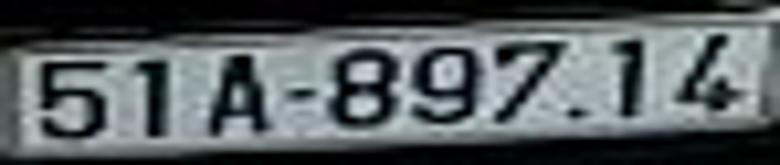-: (287, 85, 313, 98)
.: (568, 104, 584, 119)
1: (132, 58, 171, 139), (614, 39, 643, 113)
4: (673, 33, 741, 118)
5: (39, 55, 111, 138)
7: (495, 42, 559, 118)
8: (335, 47, 394, 124)
9: (414, 47, 476, 123)
A: (206, 49, 271, 137)
